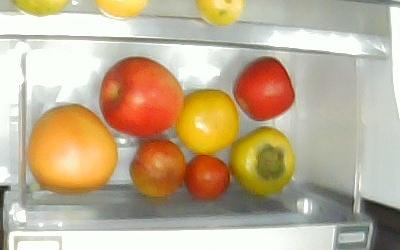apple: (98, 55, 184, 137), (232, 56, 294, 121)
grapefruit: (25, 102, 117, 194)
persimmon: (227, 125, 295, 196), (177, 89, 240, 154)
prune: (127, 137, 187, 200), (182, 152, 229, 201)
